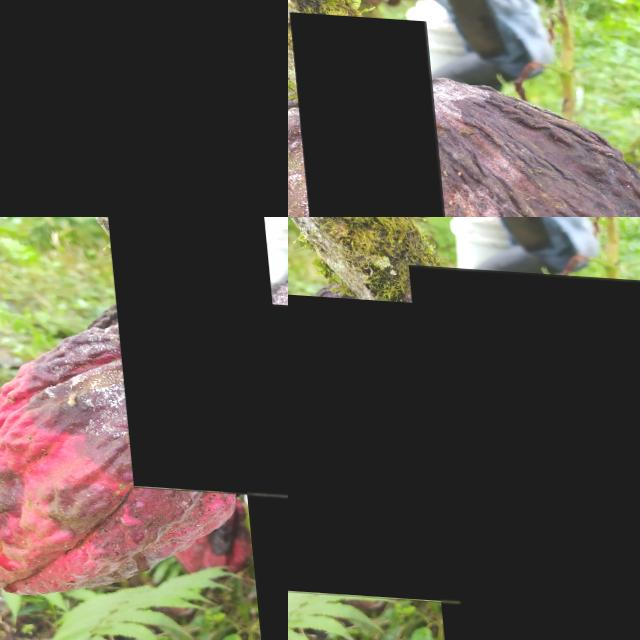Fitoftora: (406, 260, 640, 640), (0, 0, 282, 217), (288, 284, 451, 598), (288, 9, 443, 217)
Sana: (102, 217, 284, 493)
